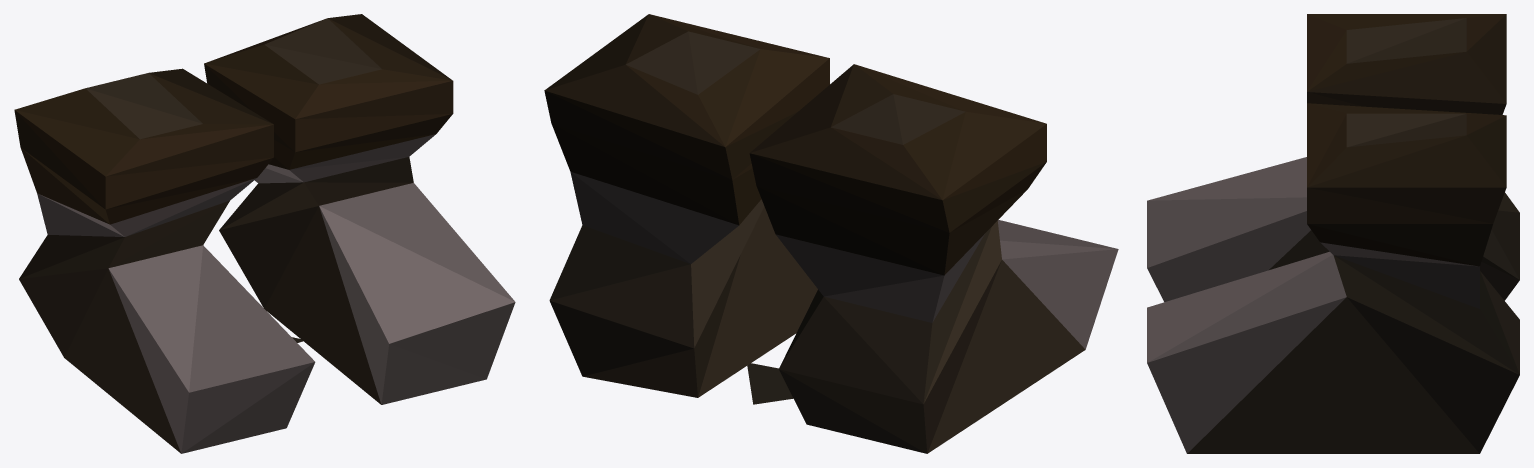
File: steel-boots.obj
3 views of the same model, side by side, from view 1: azimuth 30°, elevation 25°; view 2: azimuth 150°, elevation 25°; view 3: azimuth 270°, elevation 25° (orthographic). The views are drawn at different scales.
Parts seen in each view (by area): view 1: Item Steel boots 2026-09-24_18-24-04; view 2: Item Steel boots 2026-09-24_18-24-04; view 3: Item Steel boots 2026-09-24_18-24-04.
Boxes of the visible parts, <box> form: Item Steel boots 2026-09-24_18-24-04: <box>14,14,515,453</box>; Item Steel boots 2026-09-24_18-24-04: <box>544,14,1118,453</box>; Item Steel boots 2026-09-24_18-24-04: <box>1147,14,1519,453</box>.
Bounding box in the file's own units: 33 × 25 × 28.
